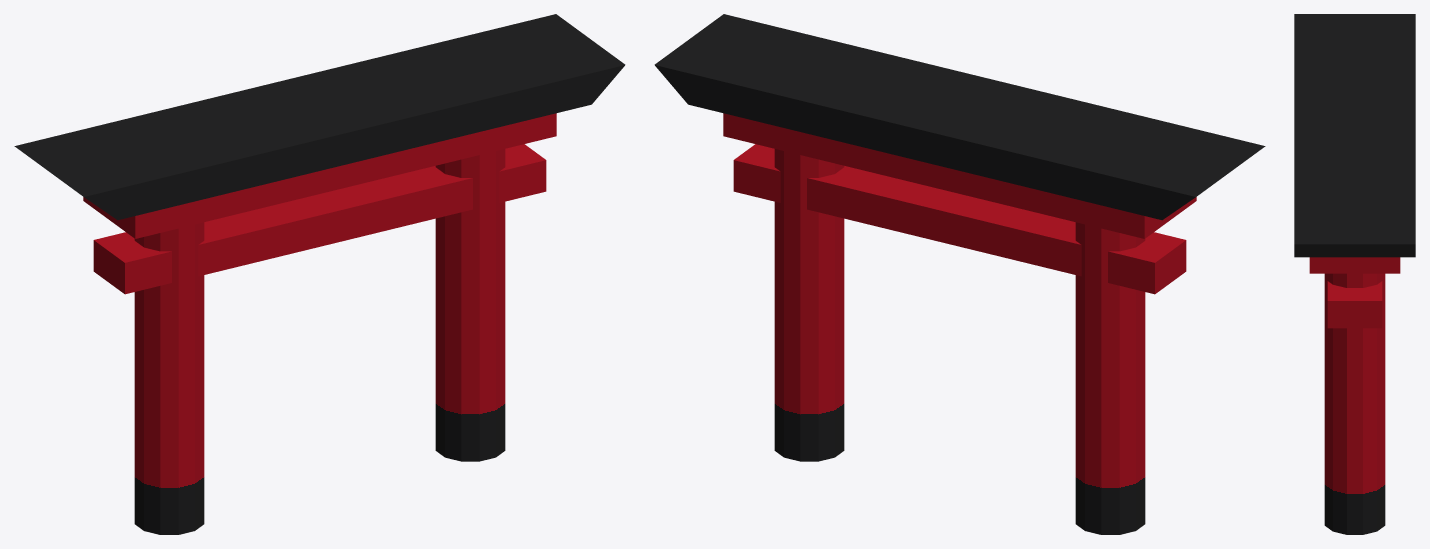
File: porte japonaise v1.gltf
The picture shows the model from 3 angles, left to right: view 1: azimuth 30°, elevation 25°; view 2: azimuth 150°, elevation 25°; view 3: azimuth 270°, elevation 25°; orthographic projection. The views are drawn at different scales.
Parts seen in each view (by area): view 1: poutre haut, poutre bas, pilier droit, pilier gauche, poutre milieu; view 2: poutre haut, poutre bas, pilier droit, pilier gauche, poutre milieu; view 3: poutre haut, pilier gauche, poutre bas, poutre milieu.
Boxes of the visible parts, left/top/right/bottom form: poutre haut: left=14, top=14, right=625, bottom=220; poutre bas: left=93, top=144, right=546, bottom=294; pilier droit: left=134, top=222, right=204, bottom=534; pilier gauche: left=435, top=149, right=505, bottom=461; poutre milieu: left=83, top=113, right=556, bottom=238; poutre haut: left=654, top=14, right=1265, bottom=220; poutre bas: left=733, top=144, right=1186, bottom=294; pilier droit: left=1075, top=222, right=1145, bottom=534; pilier gauche: left=774, top=149, right=844, bottom=461; poutre milieu: left=723, top=113, right=1196, bottom=238; poutre haut: left=1294, top=14, right=1415, bottom=257; pilier gauche: left=1324, top=273, right=1385, bottom=534; poutre bas: left=1327, top=281, right=1382, bottom=328; poutre milieu: left=1309, top=257, right=1400, bottom=273.
Bounding box in the file's own units: 1.12 × 0.75 × 0.25.
5 materials, 5 textured.
